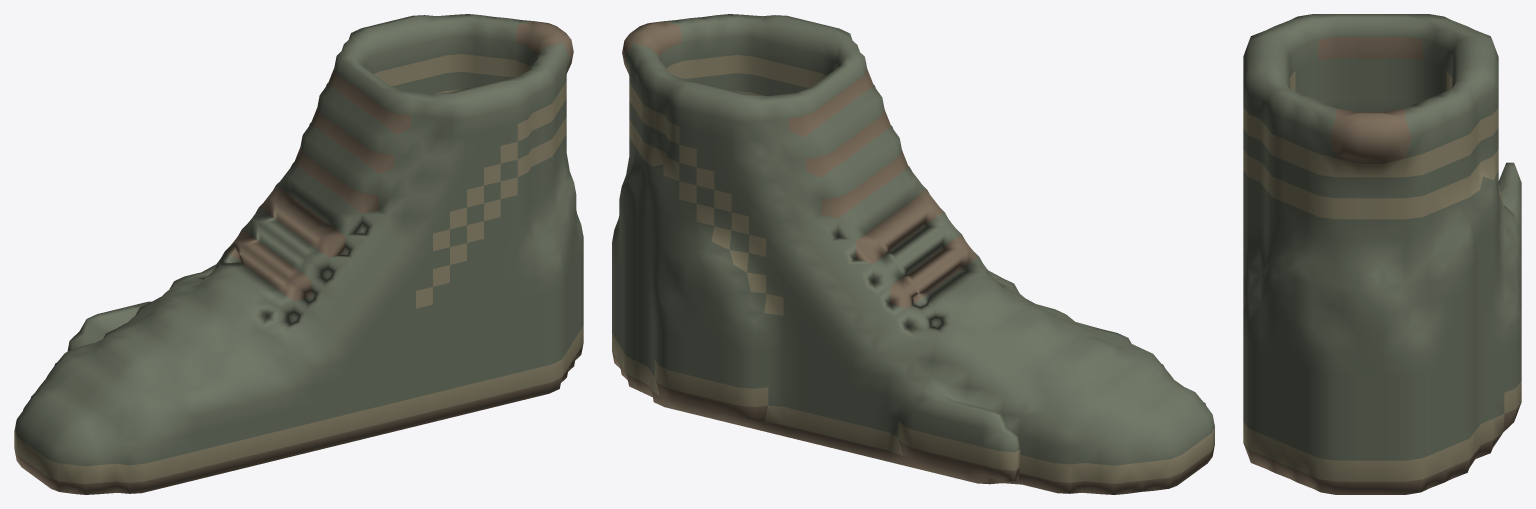
3 renders of one model, left to right at view 1: azimuth 30°, elevation 25°; view 2: azimuth 150°, elevation 25°; view 3: azimuth 270°, elevation 25°, orthographic. The views are drawn at different scales.
Bounding box in the file's own units: 1.6 × 0.9 × 0.6.
